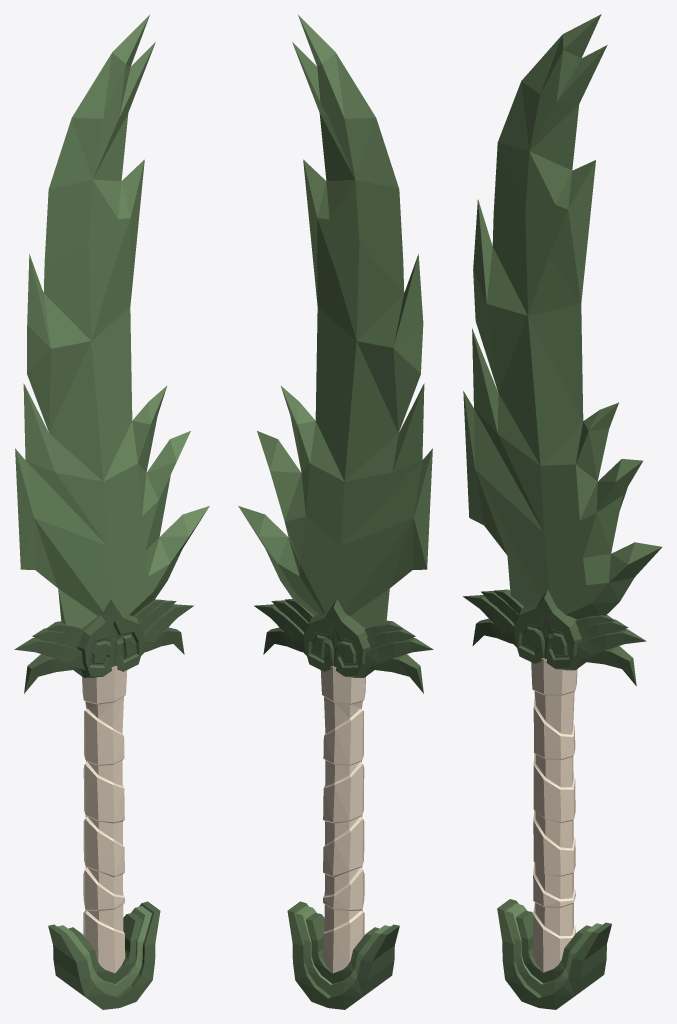
Rendered from dagger_dagger_22.glb.
The picture shows the model from 3 angles, left to right: view 1: azimuth 30°, elevation 25°; view 2: azimuth 150°, elevation 25°; view 3: azimuth 330°, elevation 25°; orthographic projection. The views are drawn at different scales.
Parts seen in each view (by area): view 1: dagger_22; view 2: dagger_22; view 3: dagger_22.
Boxes of the visible parts, bbox=[...] form: dagger_22: bbox=[14, 15, 209, 1009]; dagger_22: bbox=[238, 15, 433, 1009]; dagger_22: bbox=[463, 14, 661, 1009].
Bounding box in the file's own units: 12.04 × 57.05 × 3.28.
Materials: 1 (1 with a texture image).
